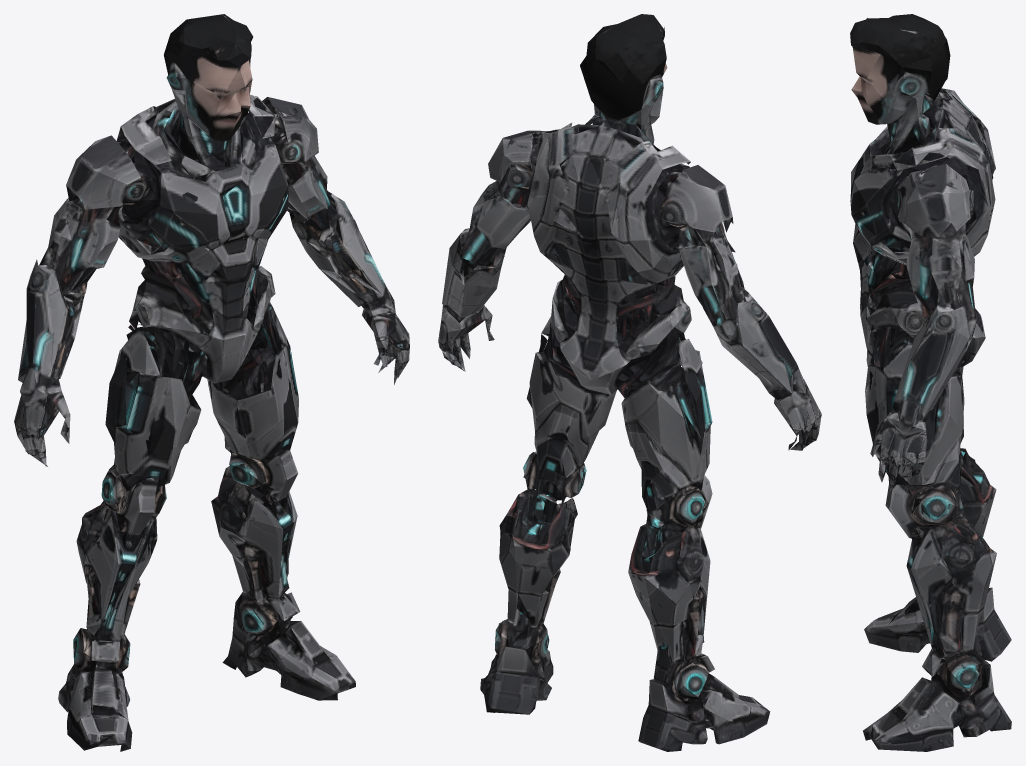
The model's file is robot.glb.
The picture shows the model from 3 angles, left to right: view 1: azimuth 30°, elevation 25°; view 2: azimuth 150°, elevation 25°; view 3: azimuth 270°, elevation 25°; orthographic projection. The views are drawn at different scales.
Parts seen in each view (by area): view 1: output_unwrapped; view 2: output_unwrapped; view 3: output_unwrapped.
Part boxes in pixels (x1,y1,x2,y2): output_unwrapped: (14, 14, 409, 751); output_unwrapped: (438, 14, 821, 751); output_unwrapped: (850, 14, 1011, 751).
Size of the model in its own units: 1.1 by 1.9 by 0.4144.
1 material, 1 textured.
